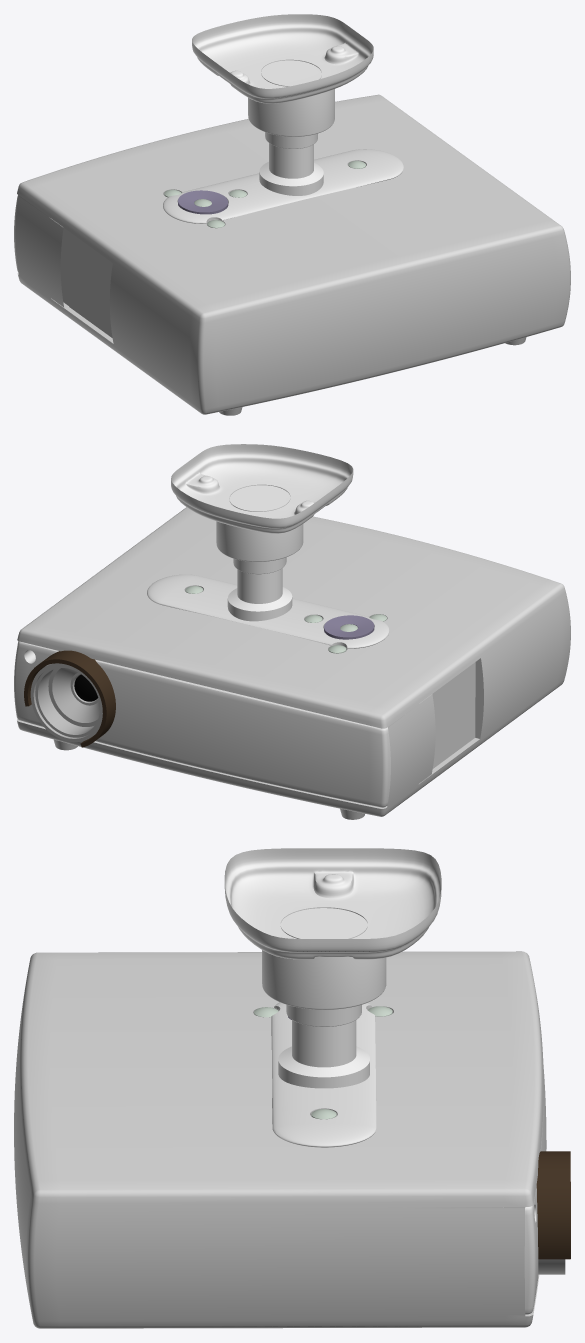
Rendered from Projector.fbx.
The picture shows the model from 3 angles, top to bottom: view 1: azimuth 30°, elevation 25°; view 2: azimuth 150°, elevation 25°; view 3: azimuth 270°, elevation 25°; orthographic projection. The views are drawn at different scales.
Visible parts, largest first — view 1: wery0138.001; view 2: wery0138.001; view 3: wery0138.001.
Boxes of the visible parts, x1=… form: wery0138.001: x1=14, y1=14, x2=570, y2=415; wery0138.001: x1=14, y1=444, x2=570, y2=819; wery0138.001: x1=14, y1=848, x2=570, y2=1328.
Bounding box in the file's own units: 46.03 × 29.48 × 43.52.
